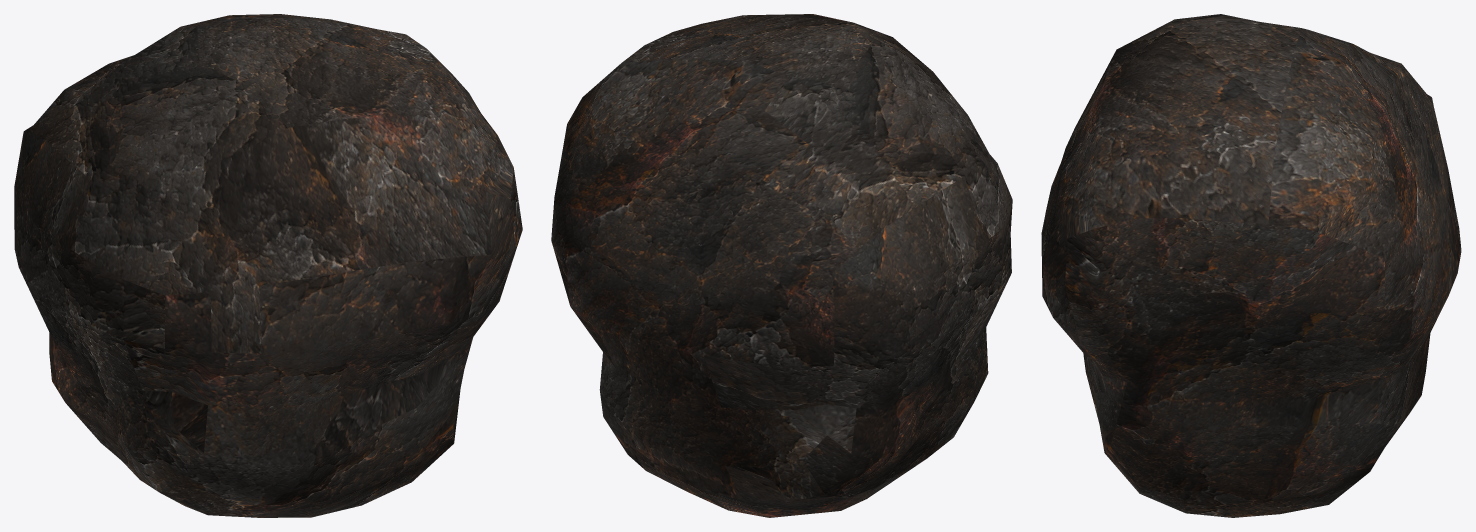
The model's file is cave_midrock.fbx.
3 views of the same model, side by side, from view 1: azimuth 30°, elevation 25°; view 2: azimuth 150°, elevation 25°; view 3: azimuth 270°, elevation 25° (orthographic). The views are drawn at different scales.
Visible parts, largest first — view 1: jumpRoomCave.midrock; view 2: jumpRoomCave.midrock; view 3: jumpRoomCave.midrock.
Boxes of the visible parts, <box> form: jumpRoomCave.midrock: <box>14,14,522,517</box>; jumpRoomCave.midrock: <box>551,14,1012,517</box>; jumpRoomCave.midrock: <box>1041,14,1461,517</box>.
Size of the model in its own units: 2109 by 2324 by 1987.
